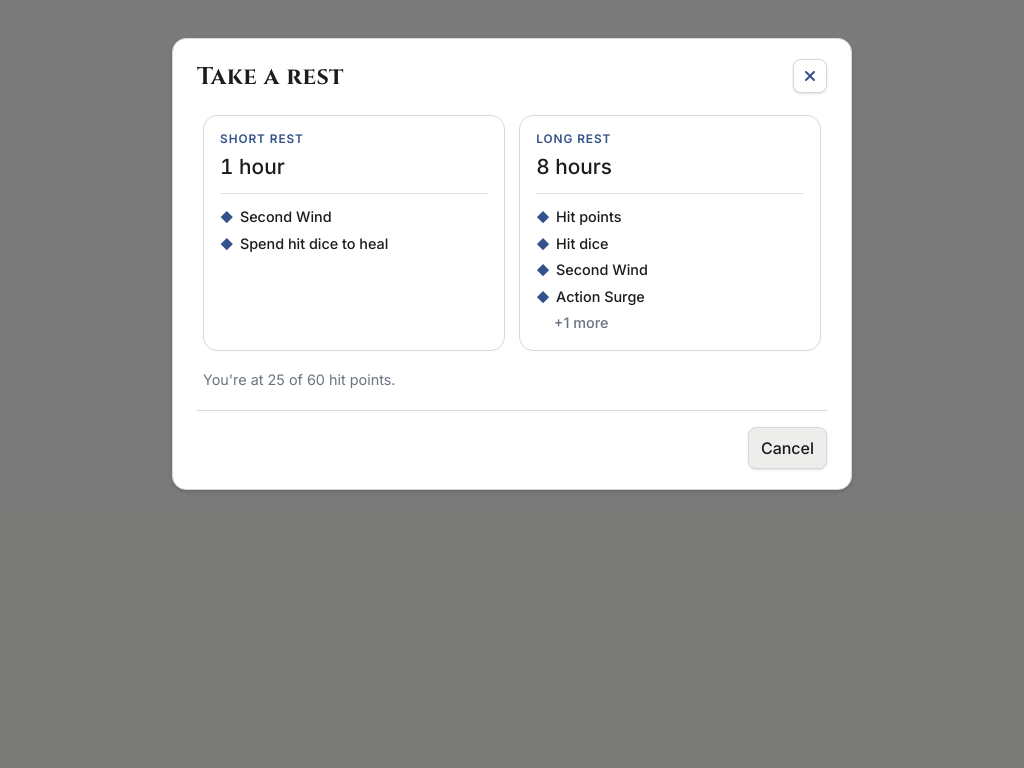
it: RestDialog — taking a rest › previews a long rest before committing anything
This screenshot has width=1024, height=768.
Click the text "Long rest" at x=574, y=139, box [536,132,611,146]
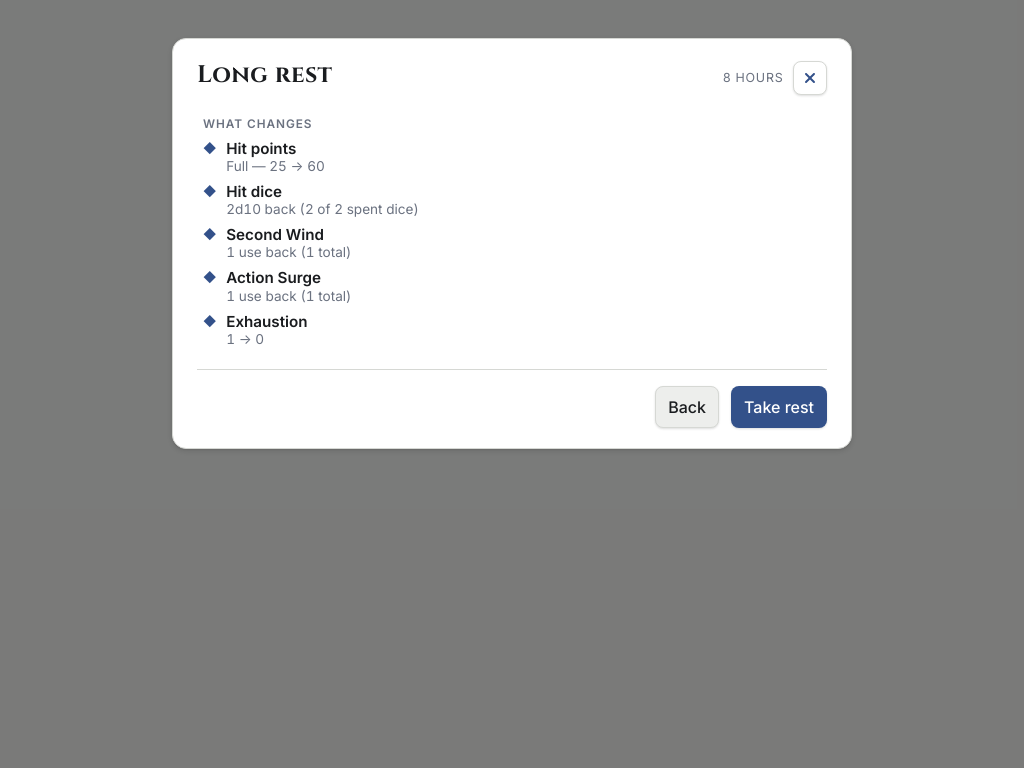
Expected: the text "Hit points" is shown, [226,139,296,158]
Expected: the heading "What changes" is shown, [203,117,312,131]
Expected: the text "Full — 25 → 60" is shown, [226,158,325,174]
